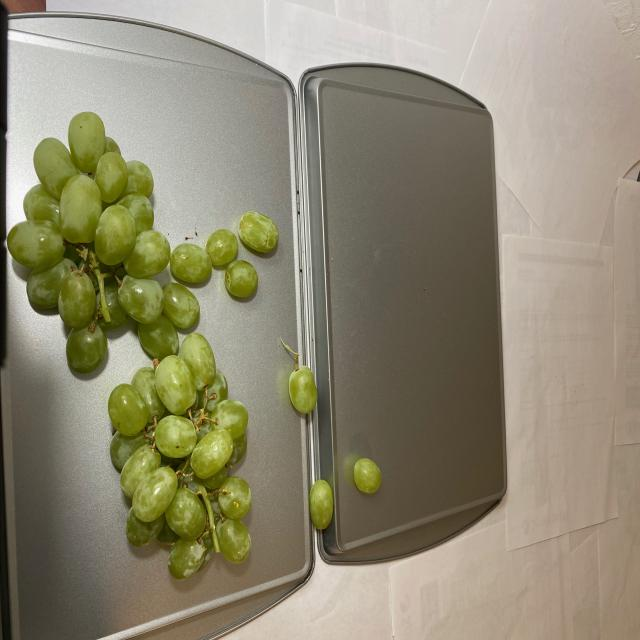grapes: (9, 102, 278, 575), (274, 352, 383, 533)
